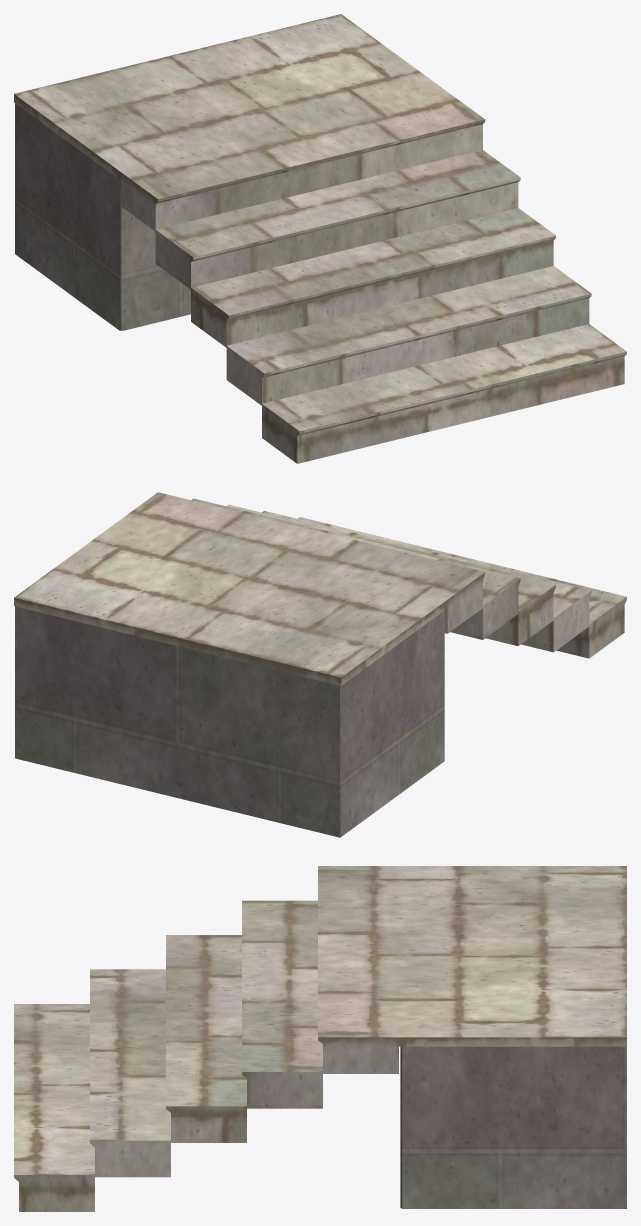
The model's file is back_steps.glb.
3 renders of one model, top to bottom at view 1: azimuth 30°, elevation 25°; view 2: azimuth 150°, elevation 25°; view 3: azimuth 270°, elevation 25°, orthographic. The views are drawn at different scales.
Visible parts, largest first — view 1: back_steps_stone2, back_steps_plinth; view 2: back_steps_plinth, back_steps_stone2; view 3: back_steps_stone2, back_steps_plinth.
Part boxes in pixels (box(x1,y1,x2,y2)): back_steps_stone2: box(14, 14, 626, 463); back_steps_plinth: box(15, 103, 190, 330); back_steps_plinth: box(15, 606, 444, 837); back_steps_stone2: box(14, 492, 626, 685); back_steps_stone2: box(14, 866, 626, 1211); back_steps_plinth: box(400, 1046, 626, 1208).
Bounding box in the file's own units: 1.6 × 0.76 × 2.42.
2 materials, 2 textured.
